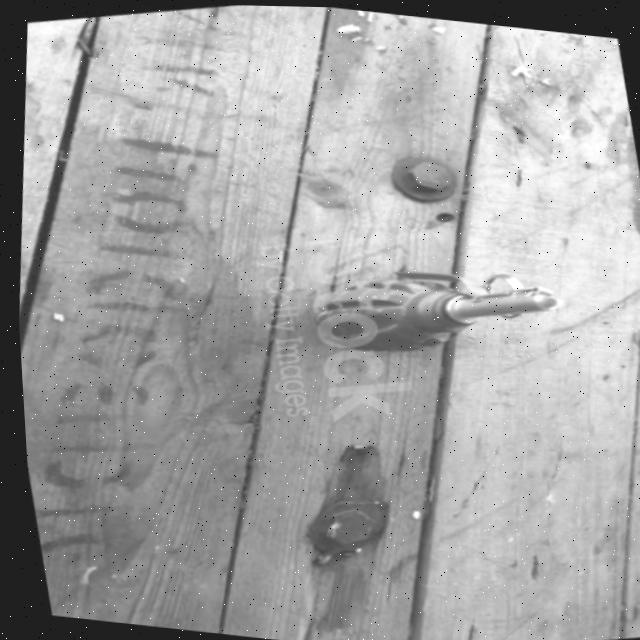grenade: (286, 223, 571, 388)
